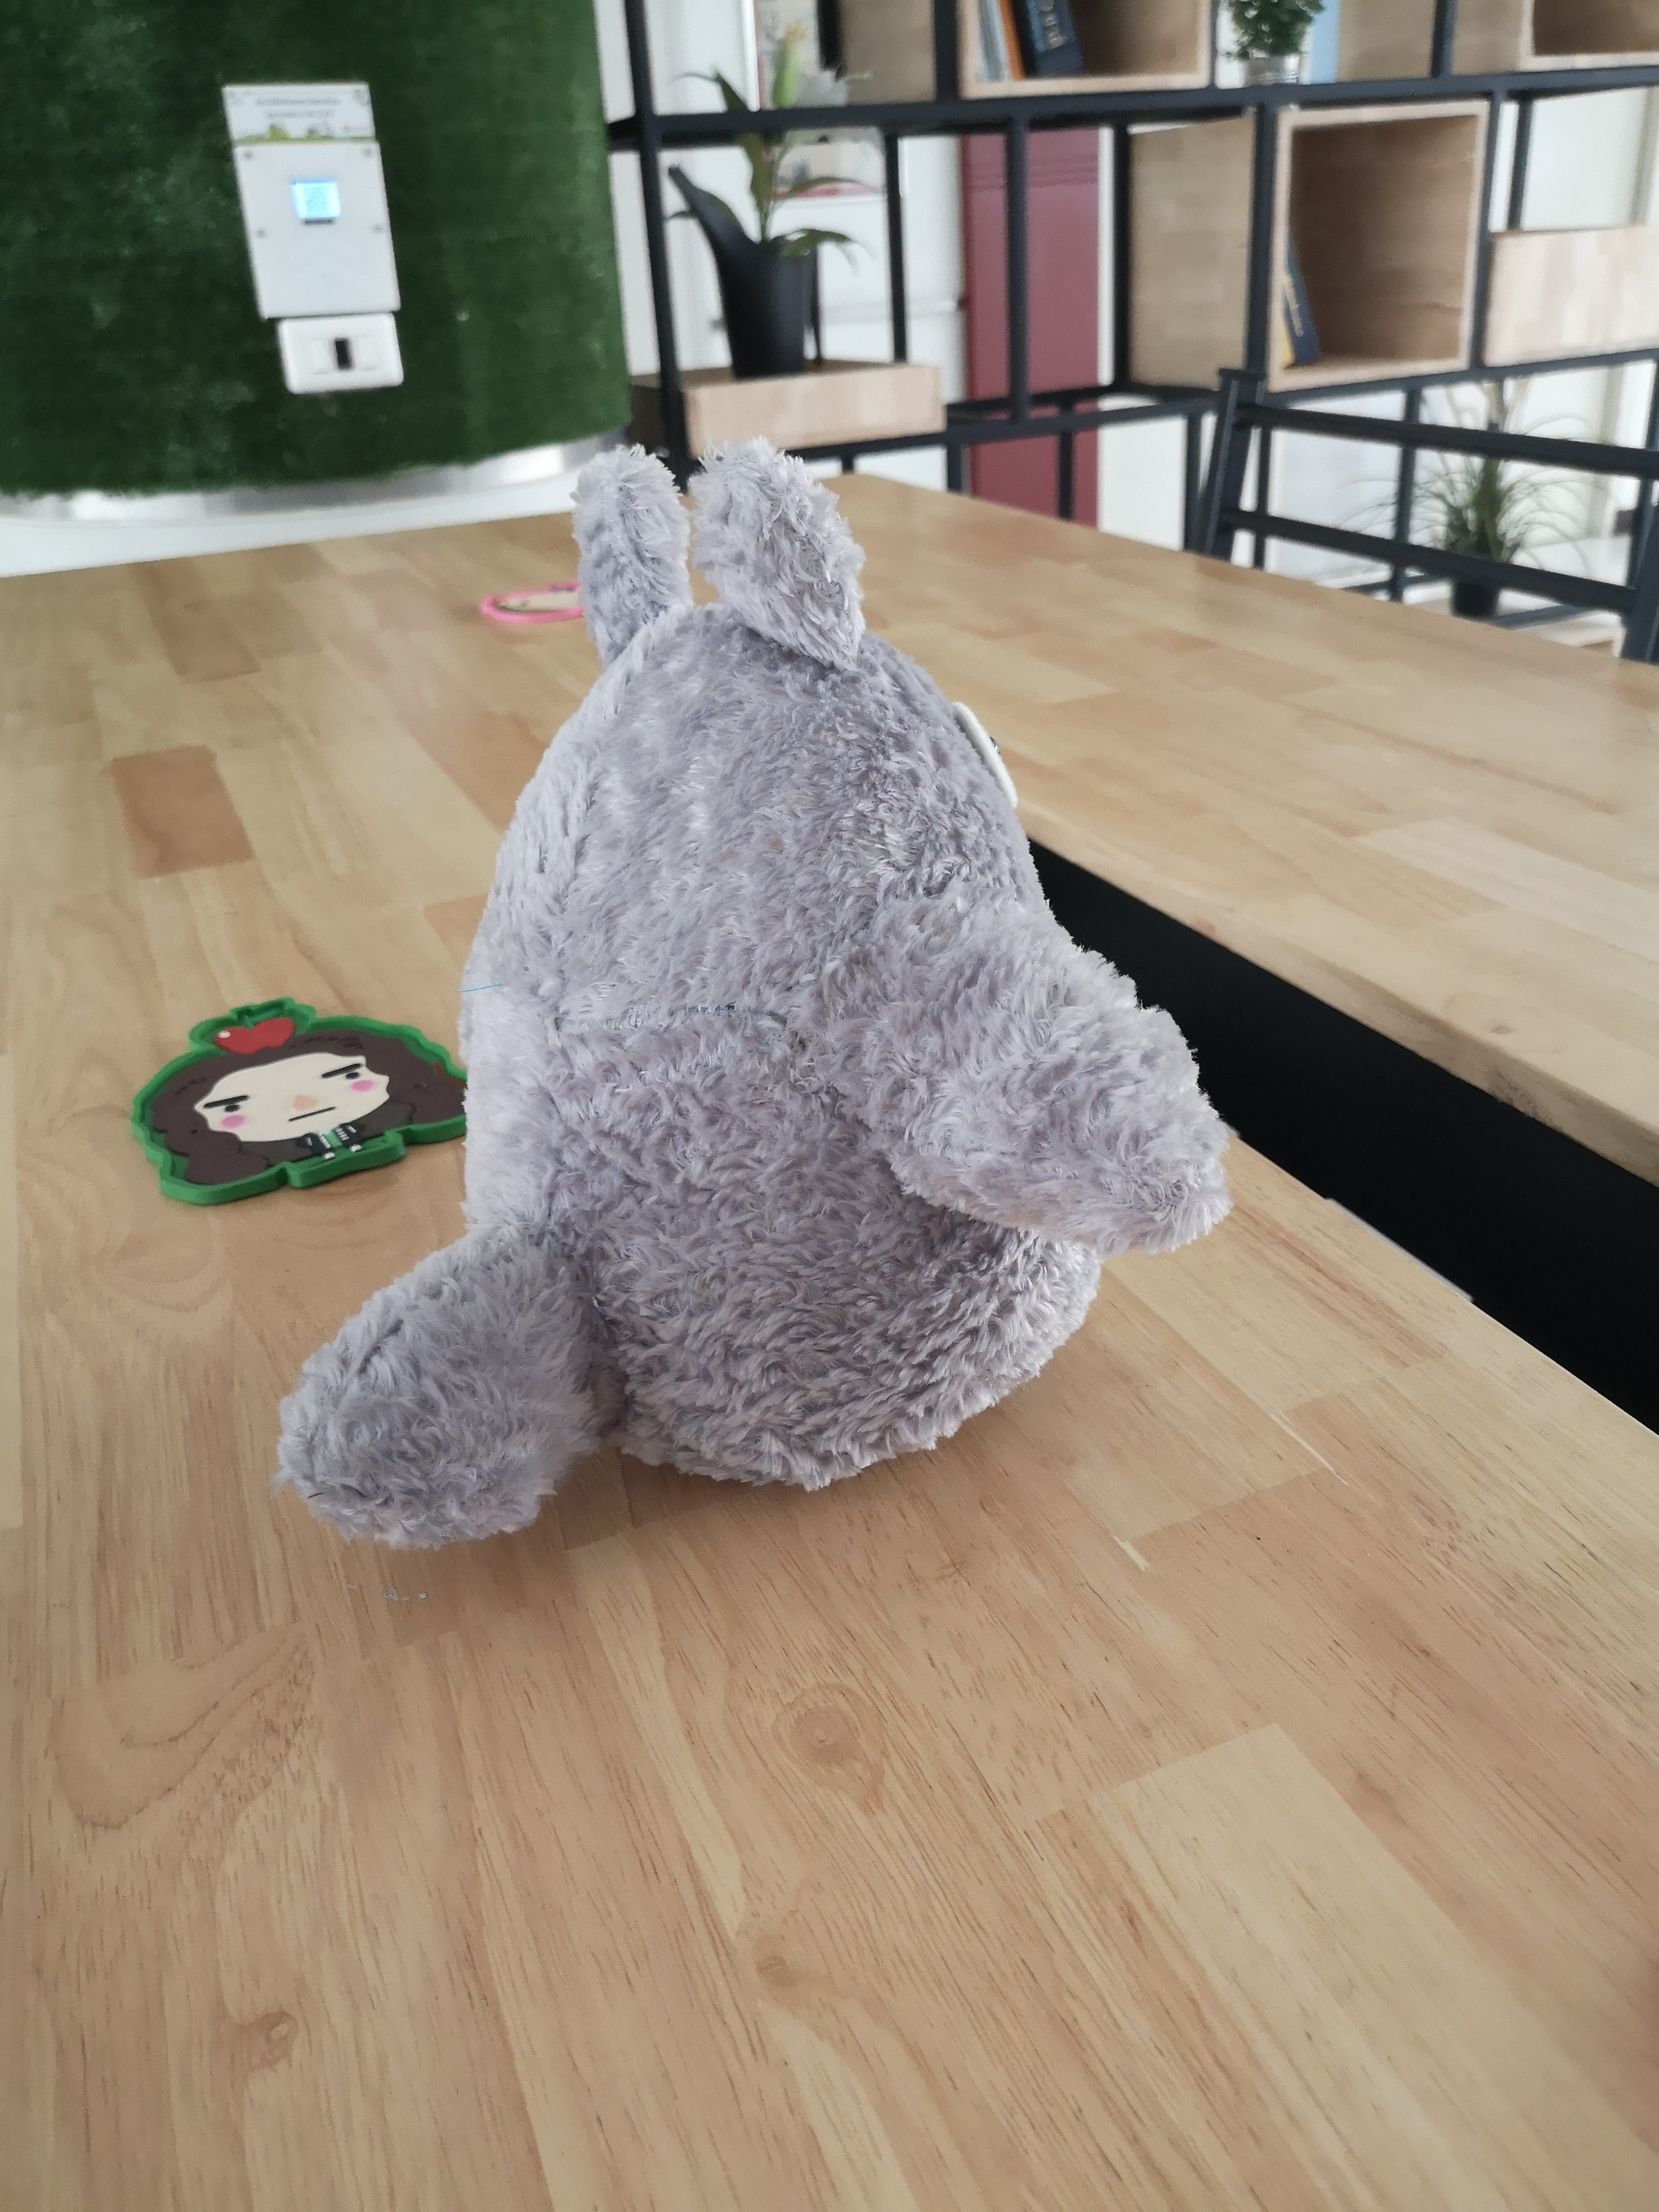totoro: (279, 423, 1234, 1580)
